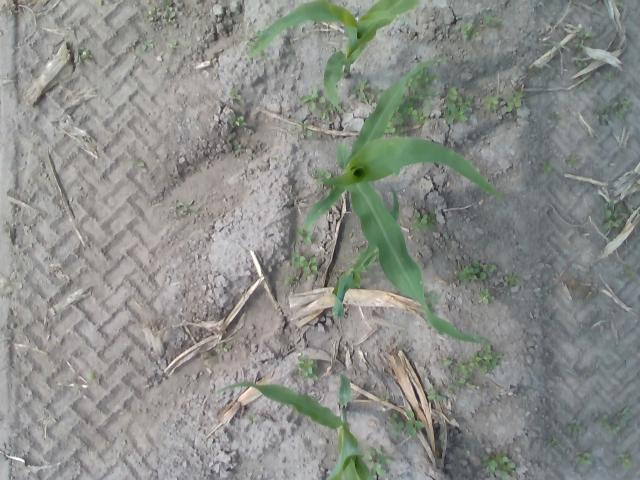Maize: (306, 59, 503, 344), (247, 0, 417, 108), (218, 374, 372, 480), (335, 185, 399, 317)
Weeds: (473, 346, 504, 375), (484, 453, 515, 478), (300, 86, 324, 110), (412, 211, 436, 232), (404, 410, 424, 435), (455, 362, 477, 383), (444, 103, 466, 123), (296, 356, 316, 376), (352, 78, 369, 99), (418, 71, 436, 90), (388, 417, 403, 439), (506, 92, 522, 112), (177, 200, 198, 214), (478, 288, 494, 306), (290, 250, 306, 268), (459, 268, 479, 282), (473, 259, 486, 280), (412, 110, 429, 126), (605, 202, 621, 218), (370, 462, 388, 476), (367, 444, 382, 460), (620, 406, 632, 426), (406, 94, 424, 107), (317, 170, 331, 186), (484, 96, 500, 110), (576, 452, 592, 466), (598, 107, 610, 125), (305, 256, 318, 272), (298, 229, 312, 243), (317, 106, 331, 120), (410, 80, 423, 95), (568, 420, 584, 432), (620, 97, 634, 110), (604, 218, 622, 228), (215, 343, 232, 353), (428, 390, 442, 402), (141, 38, 153, 52), (148, 6, 160, 20), (400, 102, 414, 114), (284, 273, 298, 285), (462, 22, 472, 38), (487, 262, 498, 276), (458, 96, 472, 106), (606, 424, 620, 434), (447, 87, 458, 99), (596, 414, 607, 426), (163, 12, 176, 22), (232, 116, 245, 126), (540, 162, 554, 171), (160, 0, 172, 10), (132, 157, 144, 167), (575, 59, 587, 69), (424, 90, 436, 100), (506, 274, 516, 286), (380, 454, 392, 464), (623, 455, 632, 468), (396, 118, 404, 132), (361, 96, 375, 104), (483, 14, 493, 25), (615, 108, 626, 118), (168, 40, 178, 50), (234, 144, 244, 154), (580, 82, 591, 91), (232, 88, 240, 100), (580, 31, 592, 39), (574, 38, 582, 50), (440, 358, 452, 366), (302, 376, 318, 382), (604, 71, 614, 80), (388, 122, 395, 133), (625, 268, 634, 276), (566, 156, 574, 165), (86, 373, 96, 380), (378, 396, 388, 403), (546, 440, 557, 446), (80, 46, 88, 54), (496, 19, 504, 27), (550, 112, 558, 120), (422, 100, 430, 108), (82, 52, 91, 59), (450, 380, 459, 387), (574, 154, 580, 164), (300, 119, 308, 126), (303, 130, 312, 136), (466, 382, 475, 388), (612, 100, 618, 108), (472, 32, 479, 38), (447, 390, 454, 396), (391, 412, 398, 418), (308, 274, 314, 280), (180, 212, 186, 216), (272, 157, 278, 160)
